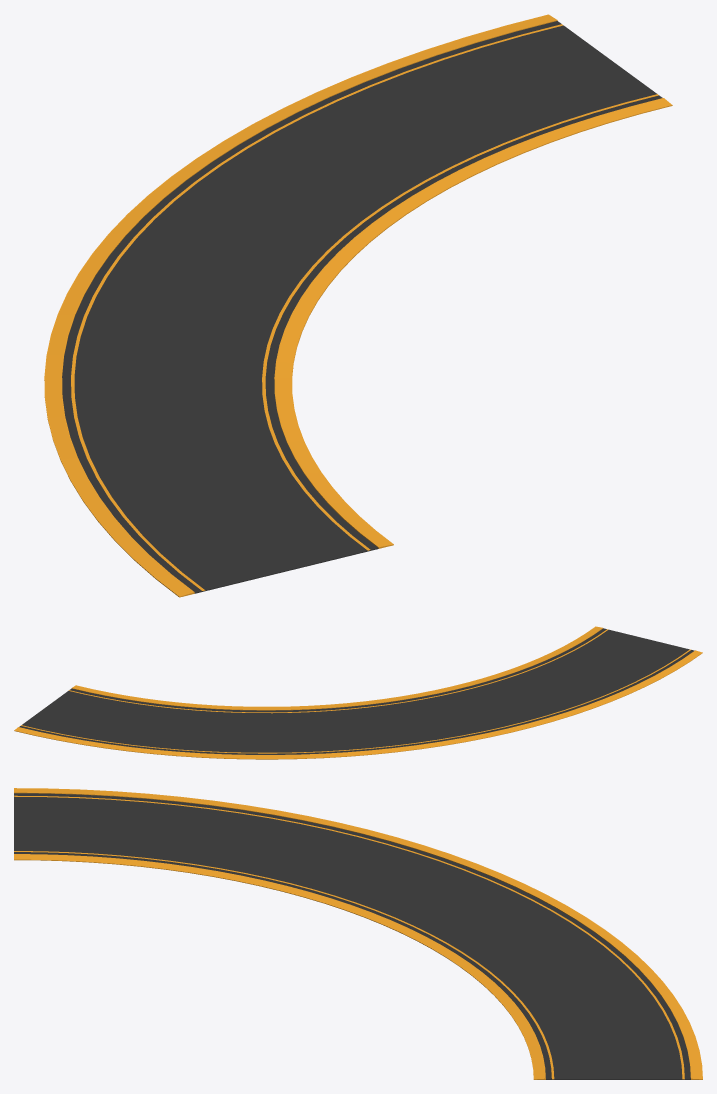
File: SM_Racetrack_RunOff_Turn_60x60m.fbx
3 renders of one model, top to bottom at view 1: azimuth 30°, elevation 25°; view 2: azimuth 150°, elevation 25°; view 3: azimuth 270°, elevation 25°, orthographic. The views are drawn at different scales.
Visible parts, largest first — view 1: SM_Racetrack_RunOff_Turn_60x60m; view 2: SM_Racetrack_RunOff_Turn_60x60m; view 3: SM_Racetrack_RunOff_Turn_60x60m.
Boxes of the visible parts, left/top/right/bottom form: SM_Racetrack_RunOff_Turn_60x60m: left=44, top=14, right=672, bottom=597; SM_Racetrack_RunOff_Turn_60x60m: left=14, top=626, right=702, bottom=759; SM_Racetrack_RunOff_Turn_60x60m: left=14, top=788, right=702, bottom=1079.
Size of the model in its own units: 57 by 0.1 by 57.
